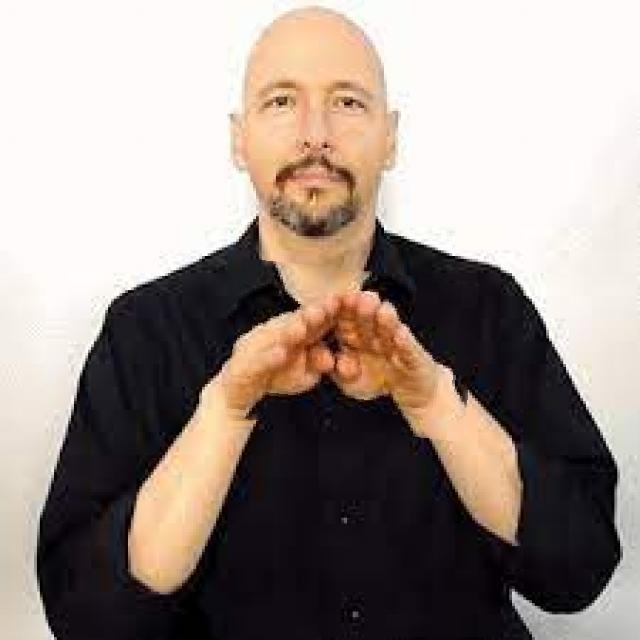House: (229, 264, 476, 436)
